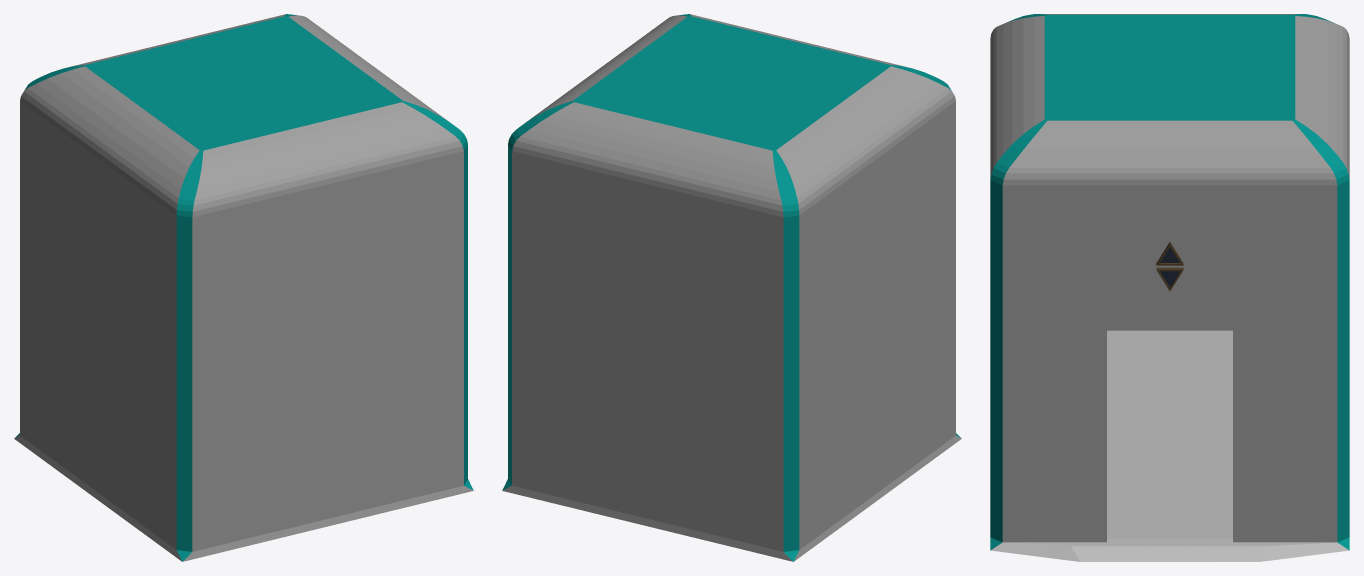
The model's file is elevator.fbx.
The picture shows the model from 3 angles, left to right: view 1: azimuth 30°, elevation 25°; view 2: azimuth 150°, elevation 25°; view 3: azimuth 270°, elevation 25°; orthographic projection. The views are drawn at different scales.
Visible parts, largest first — view 1: Cabin Ext; view 2: Cabin Ext; view 3: Cabin Ext, Door_Right_Ext, Door_Left_Ext.
Part boxes in pixels (box(x1,y1,x2,y2)): Cabin Ext: box(14, 14, 473, 561); Cabin Ext: box(502, 14, 961, 561); Cabin Ext: box(990, 14, 1349, 561); Door_Right_Ext: box(1168, 330, 1232, 538); Door_Left_Ext: box(1107, 330, 1169, 538).
Size of the model in its own units: 430 by 500 by 400.
